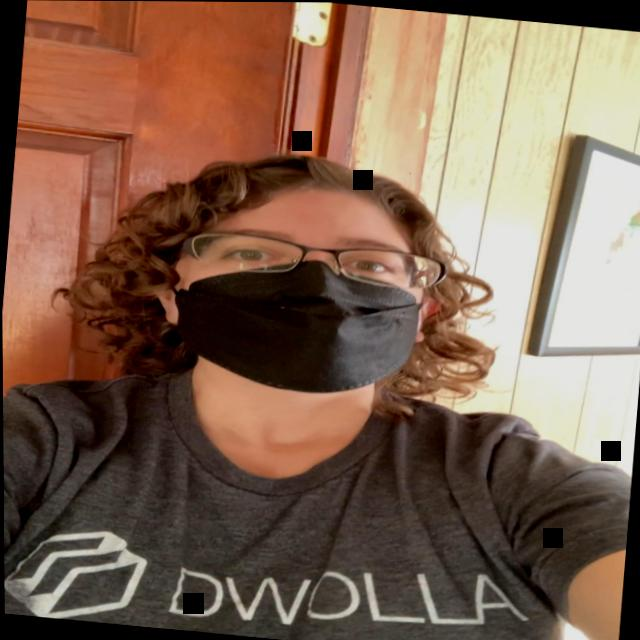Mask: (150, 172, 457, 407)
